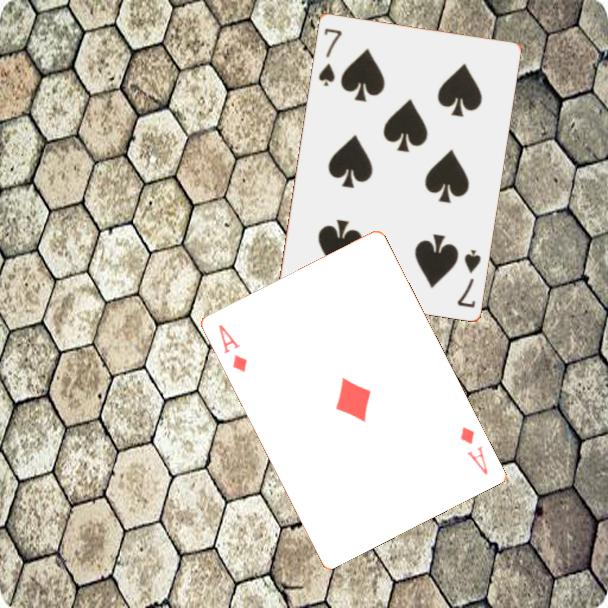d01: (214, 320, 250, 375), (456, 423, 491, 478)
s07: (315, 24, 345, 88), (453, 246, 483, 310)
